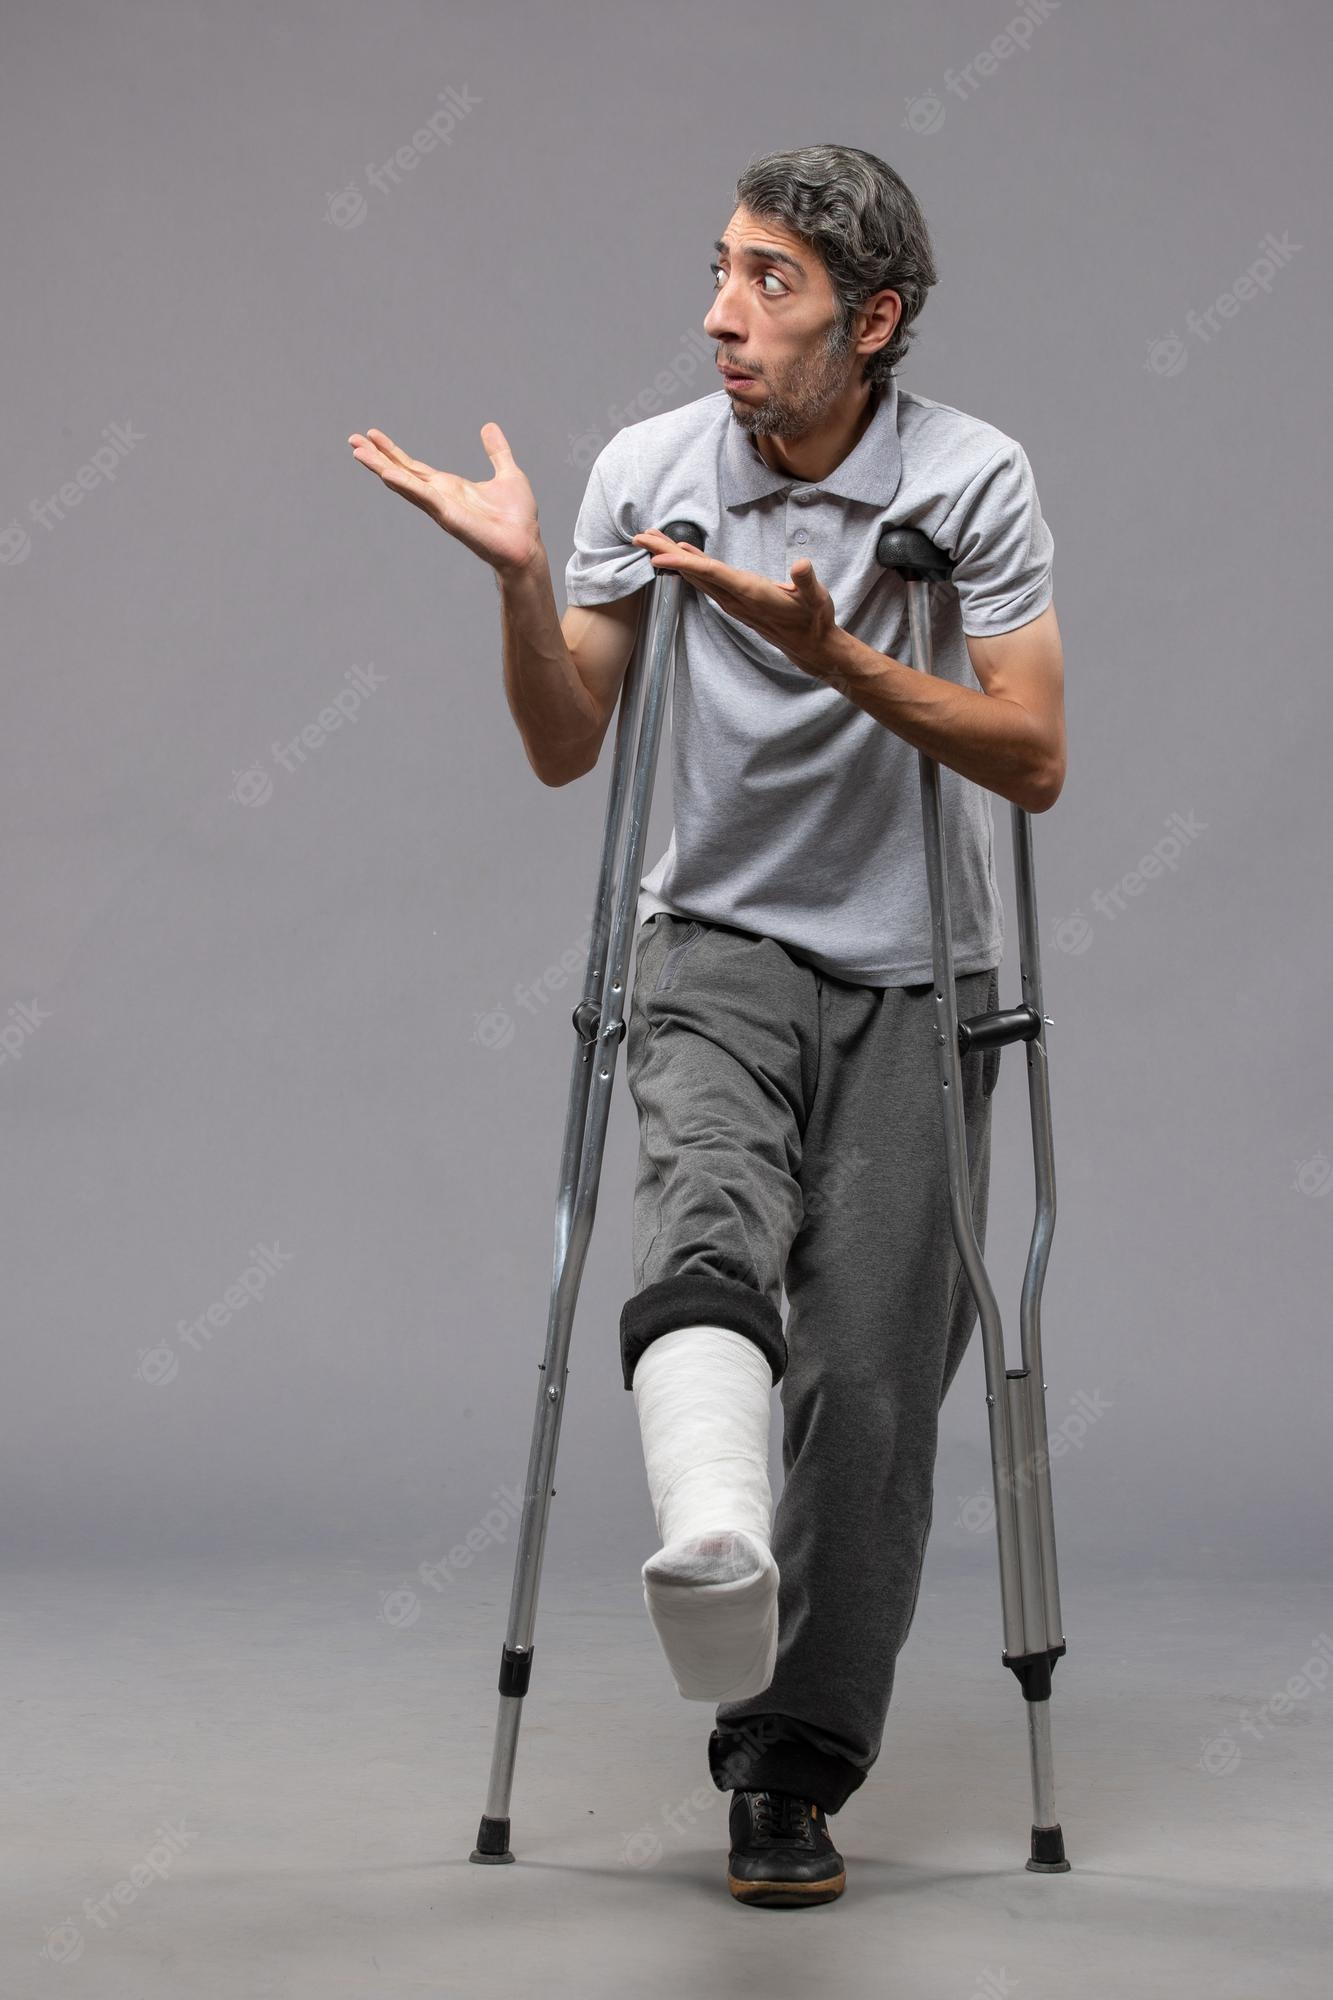crutches: (339, 140, 1079, 1893)
